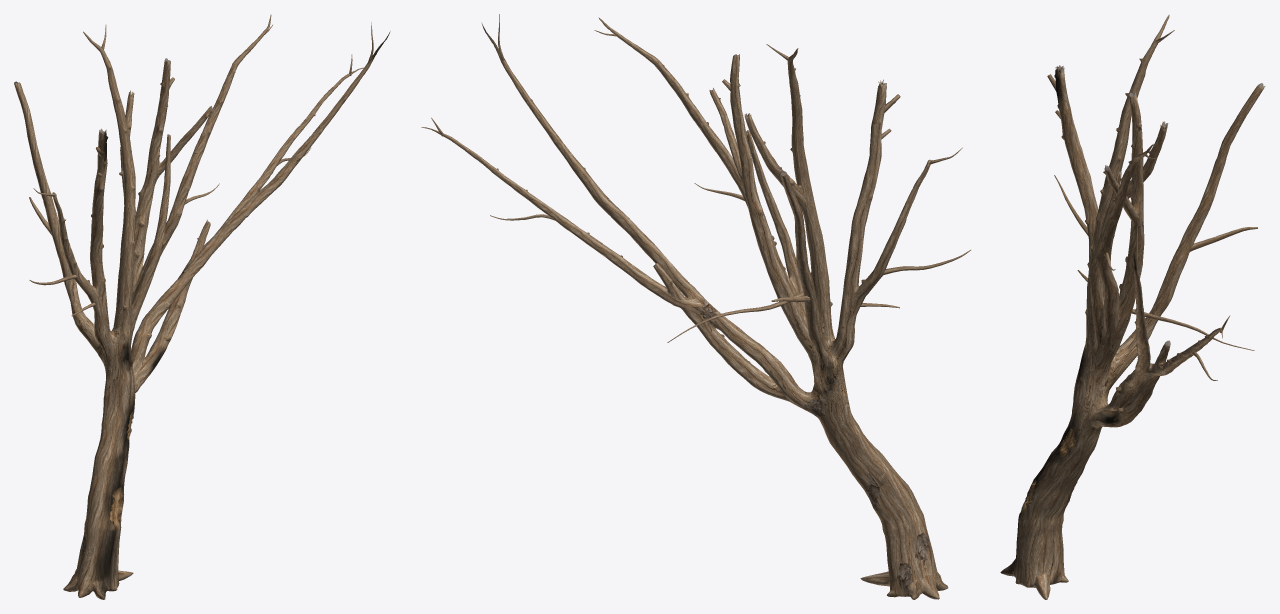
File: Model_WarDamagedTree13Lod1.glb
3 views of the same model, side by side, from view 1: azimuth 30°, elevation 25°; view 2: azimuth 150°, elevation 25°; view 3: azimuth 270°, elevation 25° (orthographic). The views are drawn at different scales.
Visible parts, largest first — view 1: Tree13_MainWood_Fused_LOD0_LOD1, Tree13_Branches_and_Twigs_LOD0_LOD1; view 2: Tree13_MainWood_Fused_LOD0_LOD1, Tree13_Branches_and_Twigs_LOD0_LOD1; view 3: Tree13_MainWood_Fused_LOD0_LOD1, Tree13_Branches_and_Twigs_LOD0_LOD1.
Boxes of the visible parts, left/top/right/bottom form: Tree13_MainWood_Fused_LOD0_LOD1: left=14, top=14, right=390, bottom=599; Tree13_Branches_and_Twigs_LOD0_LOD1: left=29, top=22, right=373, bottom=316; Tree13_MainWood_Fused_LOD0_LOD1: left=421, top=17, right=948, bottom=599; Tree13_Branches_and_Twigs_LOD0_LOD1: left=431, top=14, right=970, bottom=342; Tree13_MainWood_Fused_LOD0_LOD1: left=1000, top=15, right=1265, bottom=599; Tree13_Branches_and_Twigs_LOD0_LOD1: left=1047, top=30, right=1257, bottom=380.
Size of the model in its own units: 6.61 by 7.75 by 3.16.
4 materials, 4 textured.
